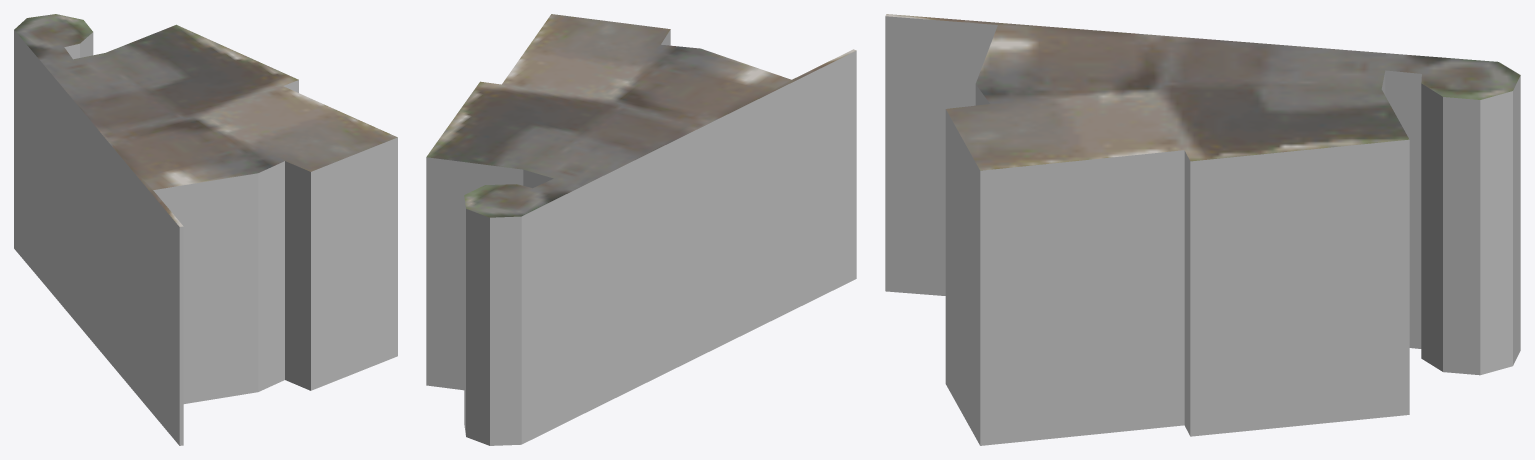
Rendered from DEBW_0010007Tvlx.gltf.
3 views of the same model, side by side, from view 1: azimuth 30°, elevation 25°; view 2: azimuth 150°, elevation 25°; view 3: azimuth 270°, elevation 25° (orthographic). The views are drawn at different scales.
Parts seen in each view (by area): view 1: Z_UP; view 2: Z_UP; view 3: Z_UP.
Boxes of the visible parts, <box> form: Z_UP: <box>14,14,397,445</box>; Z_UP: <box>426,14,856,445</box>; Z_UP: <box>885,14,1520,445</box>.
Size of the model in its own units: 11.95 by 9.78 by 20.47.
2 materials, 1 textured.
